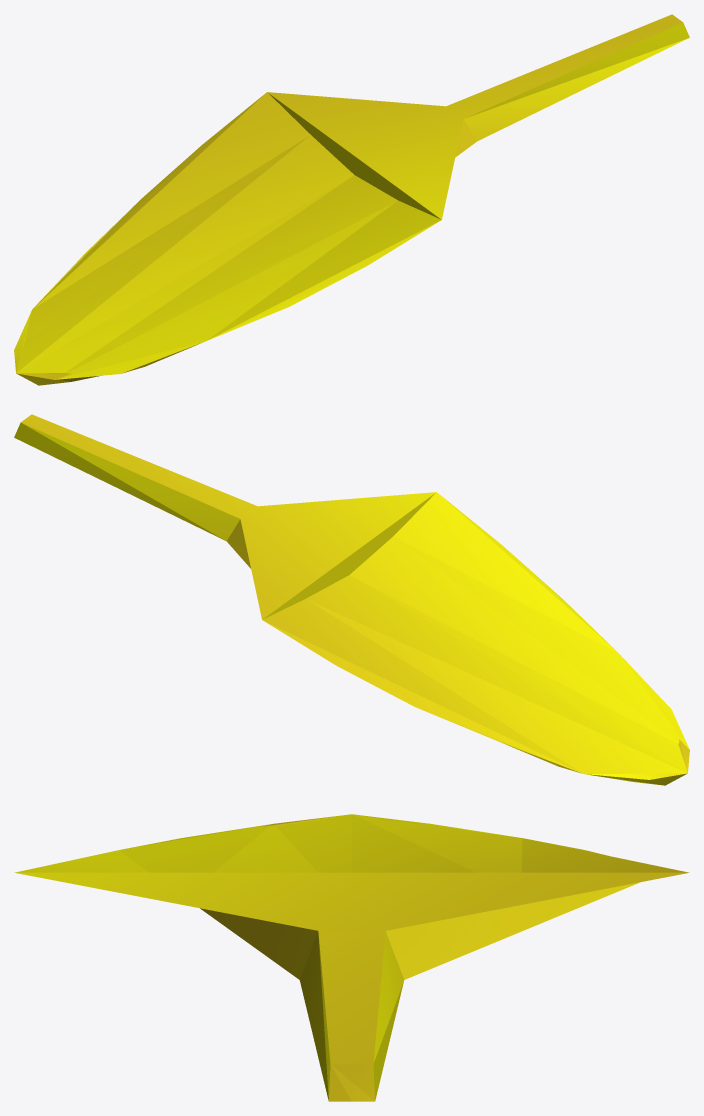
The model's file is Shovel.fbx.
3 renders of one model, top to bottom at view 1: azimuth 30°, elevation 25°; view 2: azimuth 150°, elevation 25°; view 3: azimuth 270°, elevation 25°, orthographic. The views are drawn at different scales.
Visible parts, largest first — view 1: pCube1; view 2: pCube1; view 3: pCube1.
Part boxes in pixels (<box>): pCube1: <box>14,14,689,385</box>; pCube1: <box>14,414,689,785</box>; pCube1: <box>14,814,689,1101</box>.
Bounding box in the file's own units: 4.75 × 1.44 × 2.15.
1 material, 1 textured.
